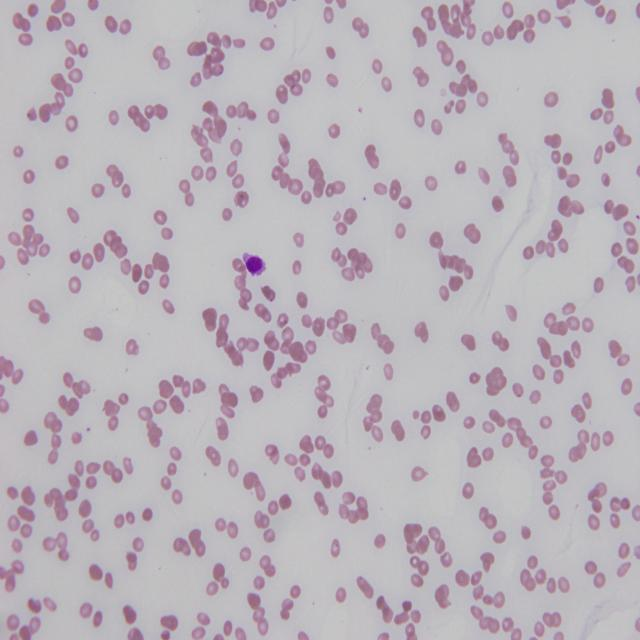cell: (243, 252, 266, 277)
